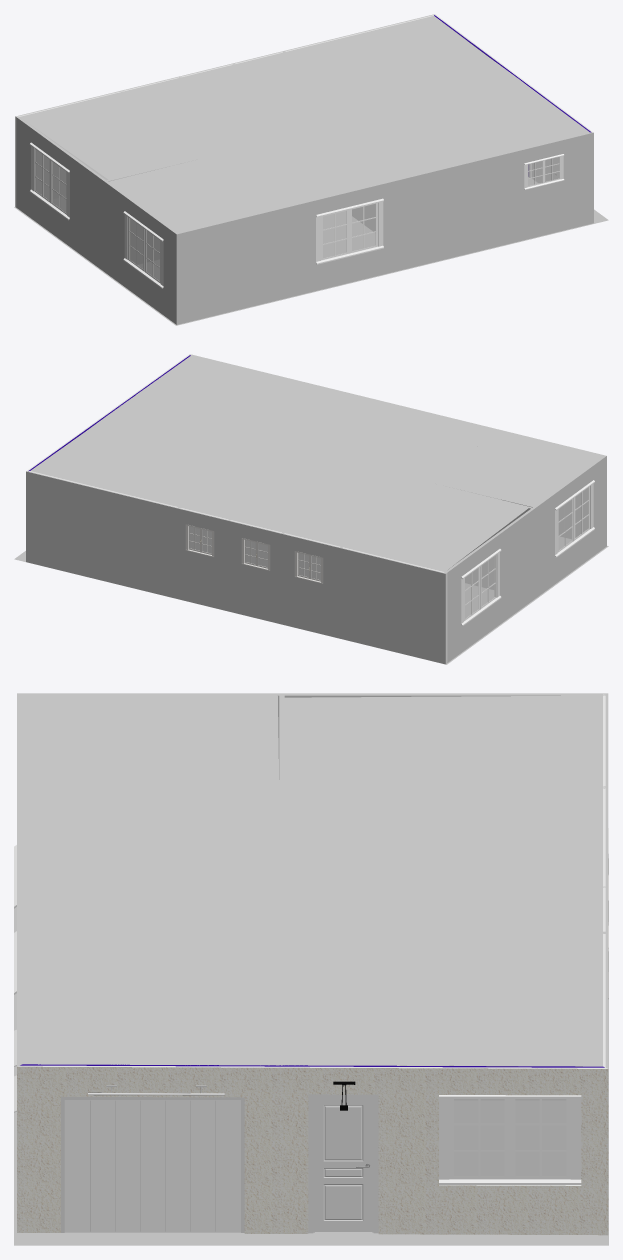
File: Coso.glb
The picture shows the model from 3 angles, top to bottom: view 1: azimuth 30°, elevation 25°; view 2: azimuth 150°, elevation 25°; view 3: azimuth 270°, elevation 25°; orthographic projection. The views are drawn at different scales.
Visible parts, largest first — view 1: Coso solo casa; view 2: Coso solo casa; view 3: Coso solo casa.
Part boxes in pixels (bbox=[...]): Coso solo casa: bbox=[14, 14, 608, 325]; Coso solo casa: bbox=[14, 354, 608, 664]; Coso solo casa: bbox=[14, 693, 608, 1245].
Size of the model in its own units: 45.65 by 9.13 by 29.62.
30 materials, 1 textured.
